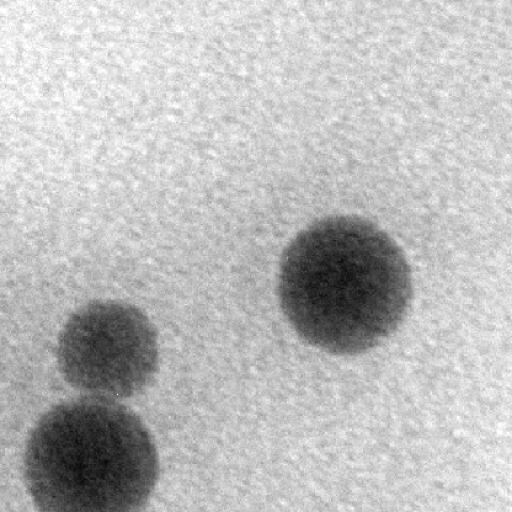Nanoparticles: (273, 214, 412, 352), (22, 401, 160, 512), (52, 299, 162, 399)
